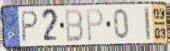0: (112, 7, 131, 41)
2: (40, 7, 62, 45)
B: (64, 8, 84, 43)
I: (143, 5, 152, 42)
P: (86, 7, 105, 42), (21, 10, 40, 44)
